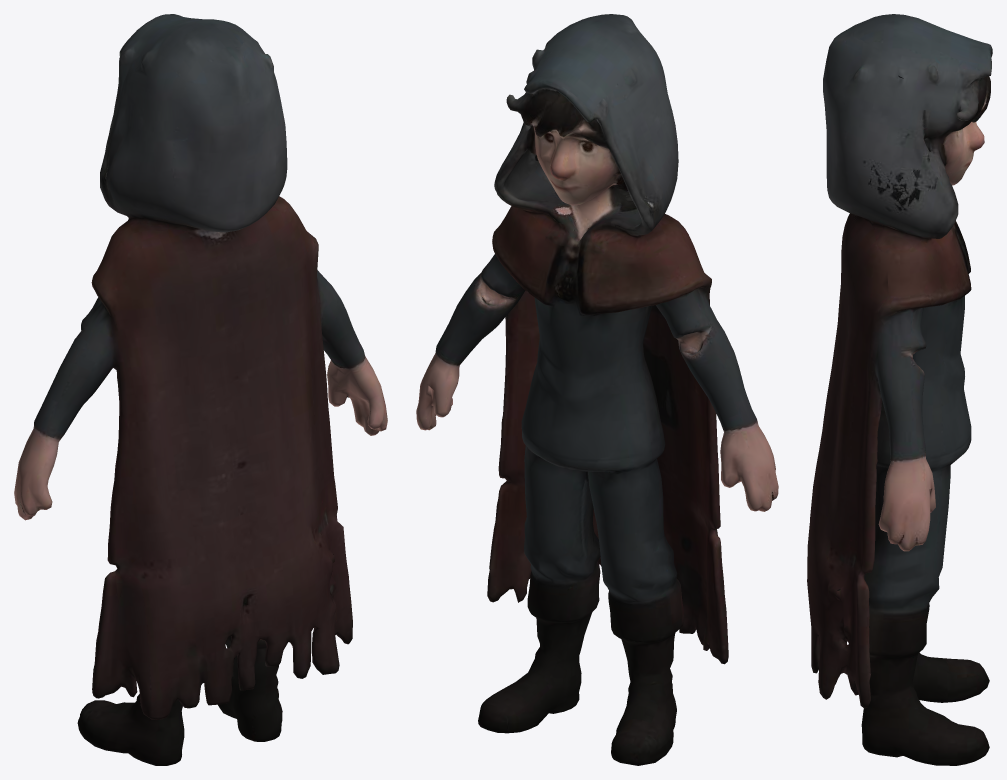
The model's file is Mage_P1_propre.glb.
3 renders of one model, left to right at view 1: azimuth 30°, elevation 25°; view 2: azimuth 150°, elevation 25°; view 3: azimuth 270°, elevation 25°, orthographic. The views are drawn at different scales.
Parts seen in each view (by area): view 1: Mage_P1; view 2: Mage_P1; view 3: Mage_P1.
Part boxes in pixels (x1,y1,x2,y2): Mage_P1: [14, 14, 387, 765]; Mage_P1: [416, 14, 778, 765]; Mage_P1: [807, 14, 992, 765].
Size of the model in its own units: 2.83 by 5.33 by 1.27.
1 material, 1 textured.
